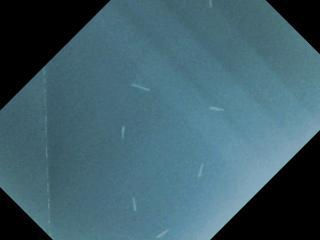crack: (37, 66, 58, 236)
scratch: (127, 79, 154, 96), (194, 159, 208, 183), (128, 194, 142, 214), (116, 121, 128, 144), (154, 226, 170, 240), (206, 104, 226, 114), (206, 0, 216, 10)
